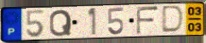1: (87, 7, 98, 37)
5: (25, 9, 46, 39), (107, 7, 125, 36)
D: (161, 5, 186, 35)
F: (135, 6, 161, 36)
Q: (48, 9, 74, 38)
